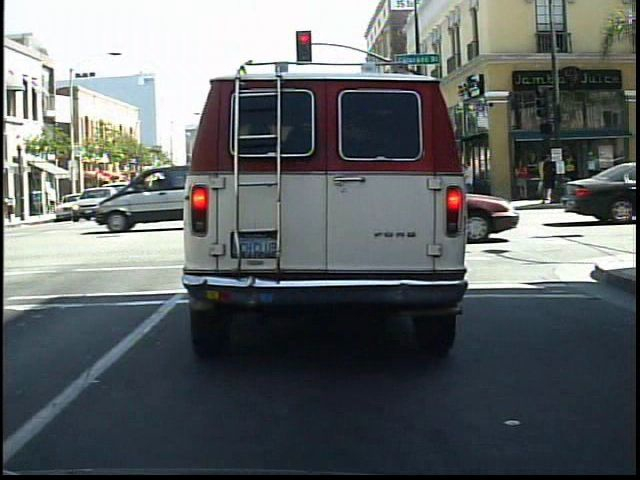person: (538, 153, 562, 208), (511, 157, 532, 204)
